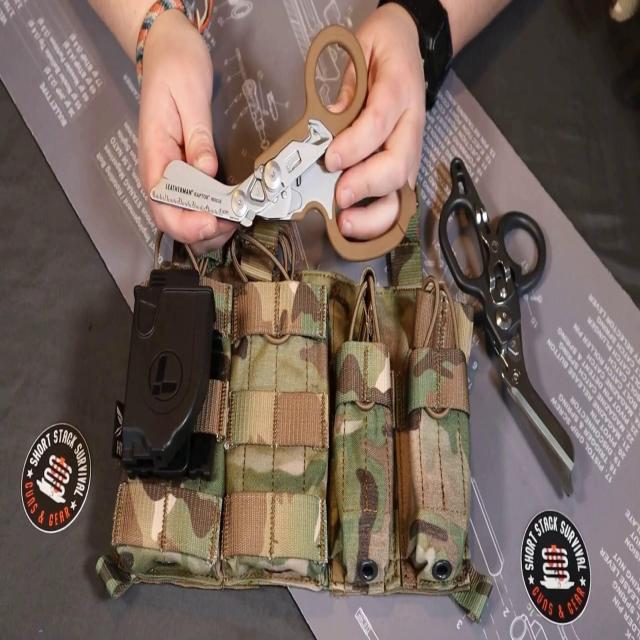scissor: (148, 22, 418, 264), (439, 155, 574, 502)
